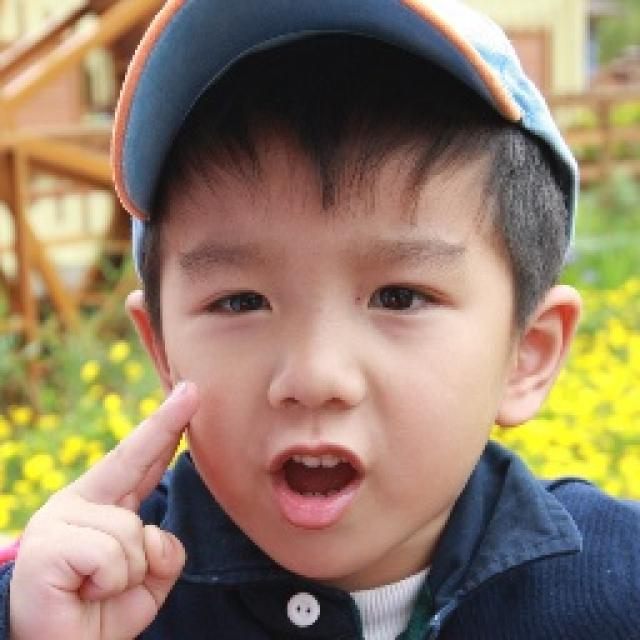earlobe: (495, 380, 536, 430)
eye: (366, 283, 438, 314), (204, 288, 272, 316)
nose: (270, 393, 362, 426)
wholeear: (494, 284, 582, 430), (121, 290, 172, 397)
